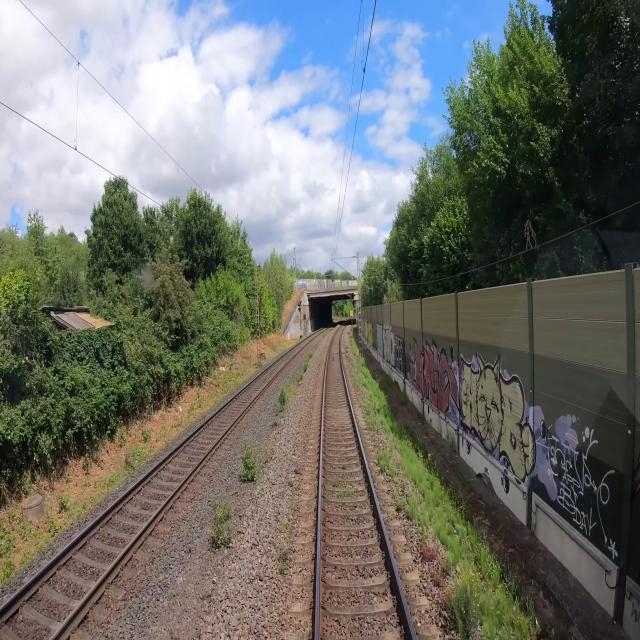Plant: (395, 489, 472, 639), (271, 345, 313, 428), (208, 497, 235, 552), (238, 442, 270, 485), (375, 448, 400, 484), (360, 399, 378, 433), (355, 363, 367, 390), (278, 551, 289, 577), (344, 345, 355, 368), (280, 520, 291, 536), (322, 329, 328, 339)
